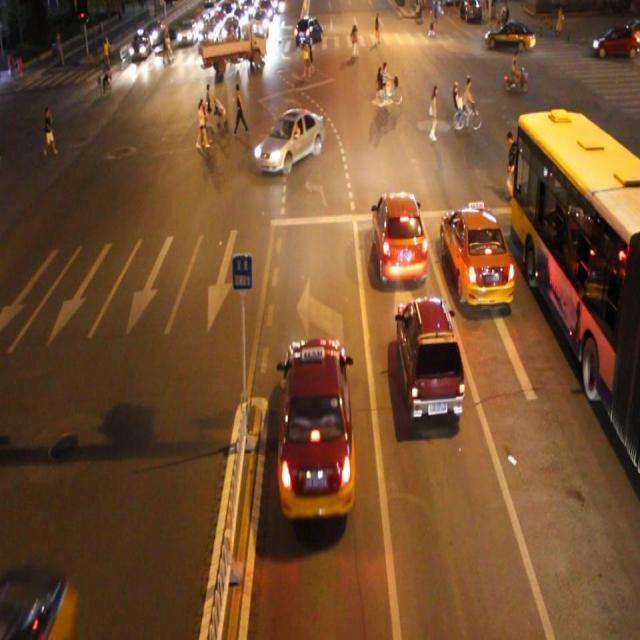BigCar: (497, 93, 640, 470), (200, 27, 278, 88)
car: (265, 335, 361, 527), (378, 304, 481, 430), (428, 192, 522, 329), (358, 188, 432, 296), (250, 94, 332, 173), (585, 13, 640, 96), (482, 12, 548, 77), (292, 11, 330, 64)
